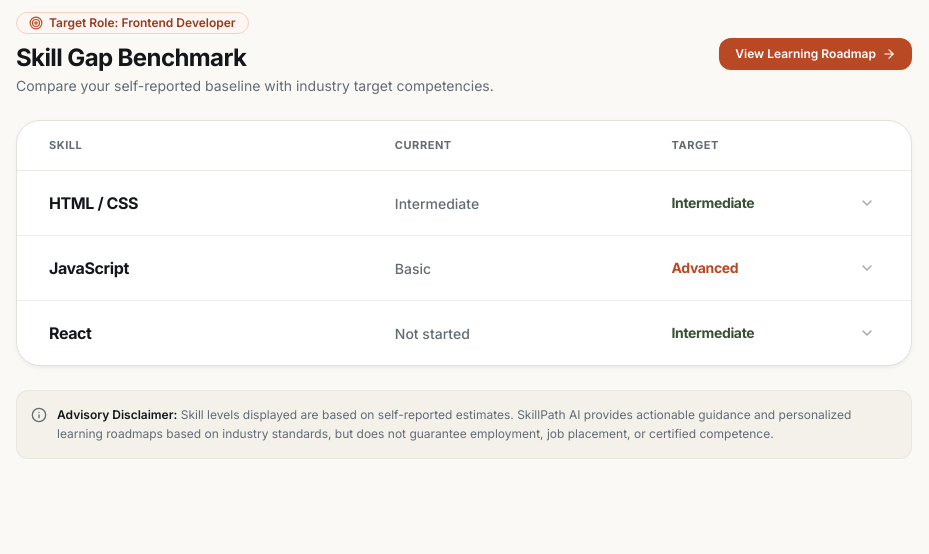
Test: SkillGapPage Component › should expand row to reveal diagnostic rationale when clicked
Click the text "JavaScript" at (89, 268), box [49,256,129,280]
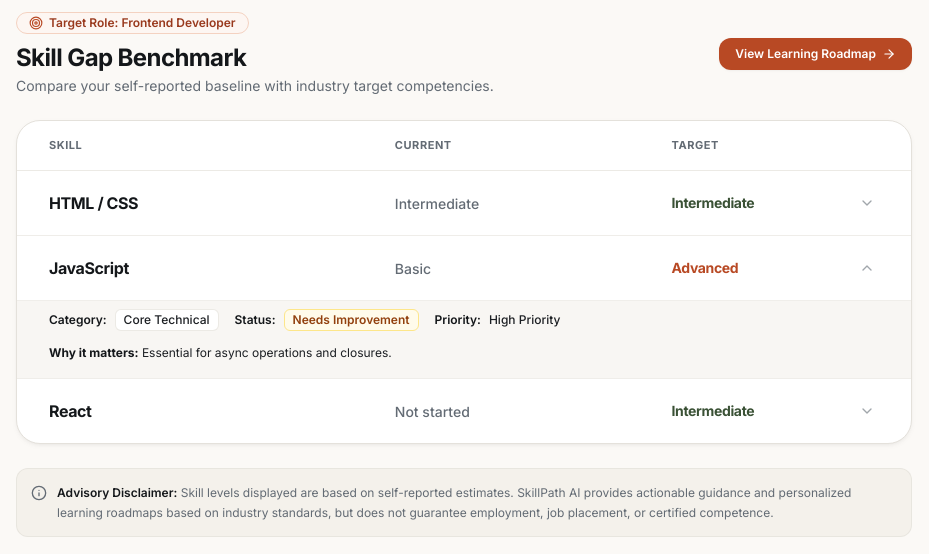
Now the text "Why it matters: Essential for async operations and closures." is shown, box [49,344,392,360]
